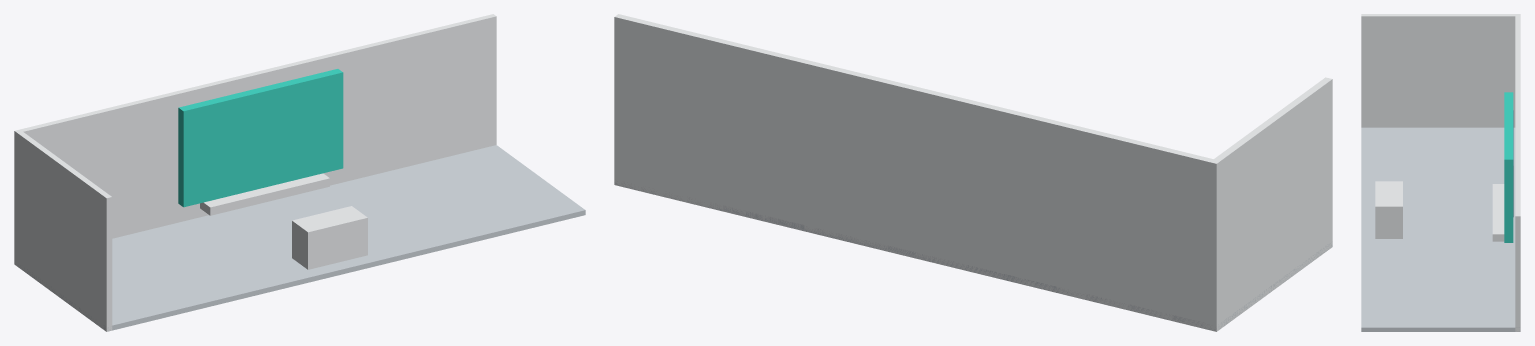
3 renders of one model, left to right at view 1: azimuth 30°, elevation 25°; view 2: azimuth 150°, elevation 25°; view 3: azimuth 270°, elevation 25°, orthographic. The views are drawn at different scales.
Parts seen in each view (by area): view 1: Exhibition Booth Concept; view 2: Exhibition Booth Concept; view 3: Exhibition Booth Concept.
Part boxes in pixels (x1=…): Exhibition Booth Concept: x1=14, y1=14, x2=585, y2=331; Exhibition Booth Concept: x1=614, y1=14, x2=1332, y2=331; Exhibition Booth Concept: x1=1361, y1=14, x2=1520, y2=331.
Bounding box in the file's own units: 12 × 3.2 × 4.
